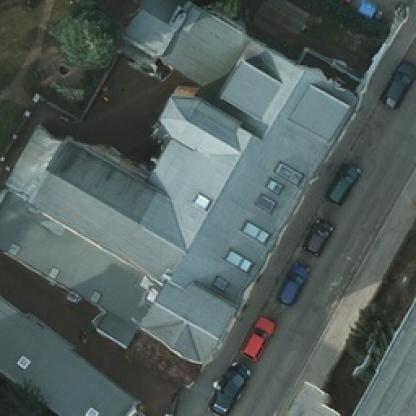car: (377, 55, 413, 109), (239, 310, 273, 361), (274, 258, 308, 309), (210, 364, 244, 414), (323, 161, 359, 205), (300, 215, 330, 255), (299, 0, 355, 7)
